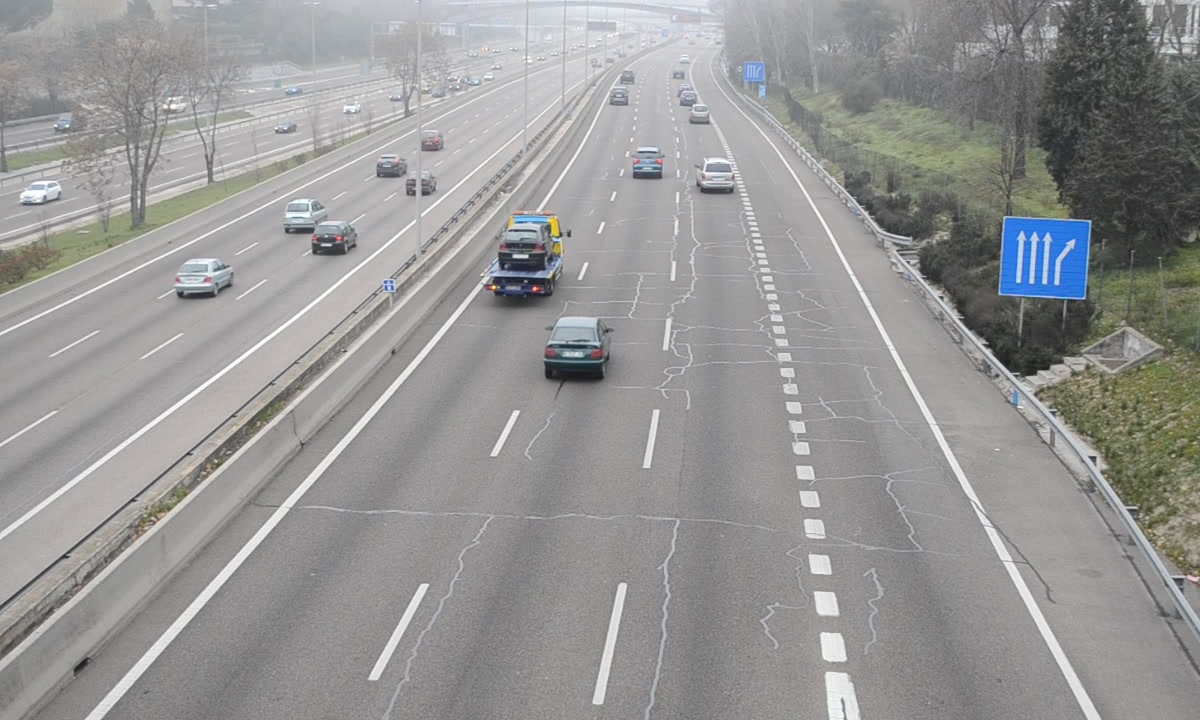car: (544, 316, 608, 373), (696, 157, 737, 192), (631, 147, 665, 177), (688, 101, 713, 124), (609, 84, 628, 106)
small-truck: (485, 213, 565, 298)
